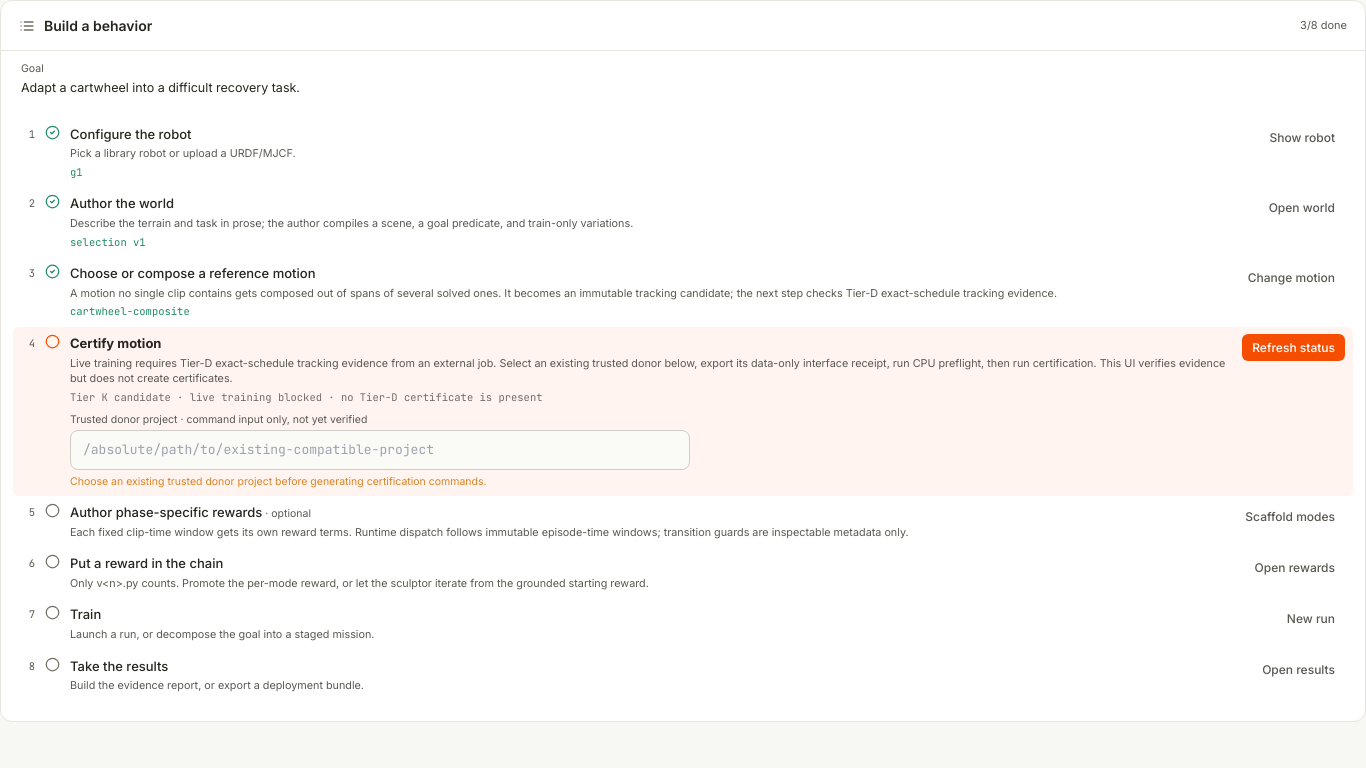
Scenario: BehaviorFlow reference-motion readiness › keeps a Tier-K draft visibly blocked behind external certification
Expected: the text "Certify motion" is shown, [70,335,162,351]
Expected: the text "Tier K candidate · live training blocked · no Tier-D certificate is present" is shown, [70,390,542,404]
Type "/research/projects/g1-trusted-locomotion" into the field named "Trusted Tier-D donor project" at x=380, y=450, box [70,430,690,470]
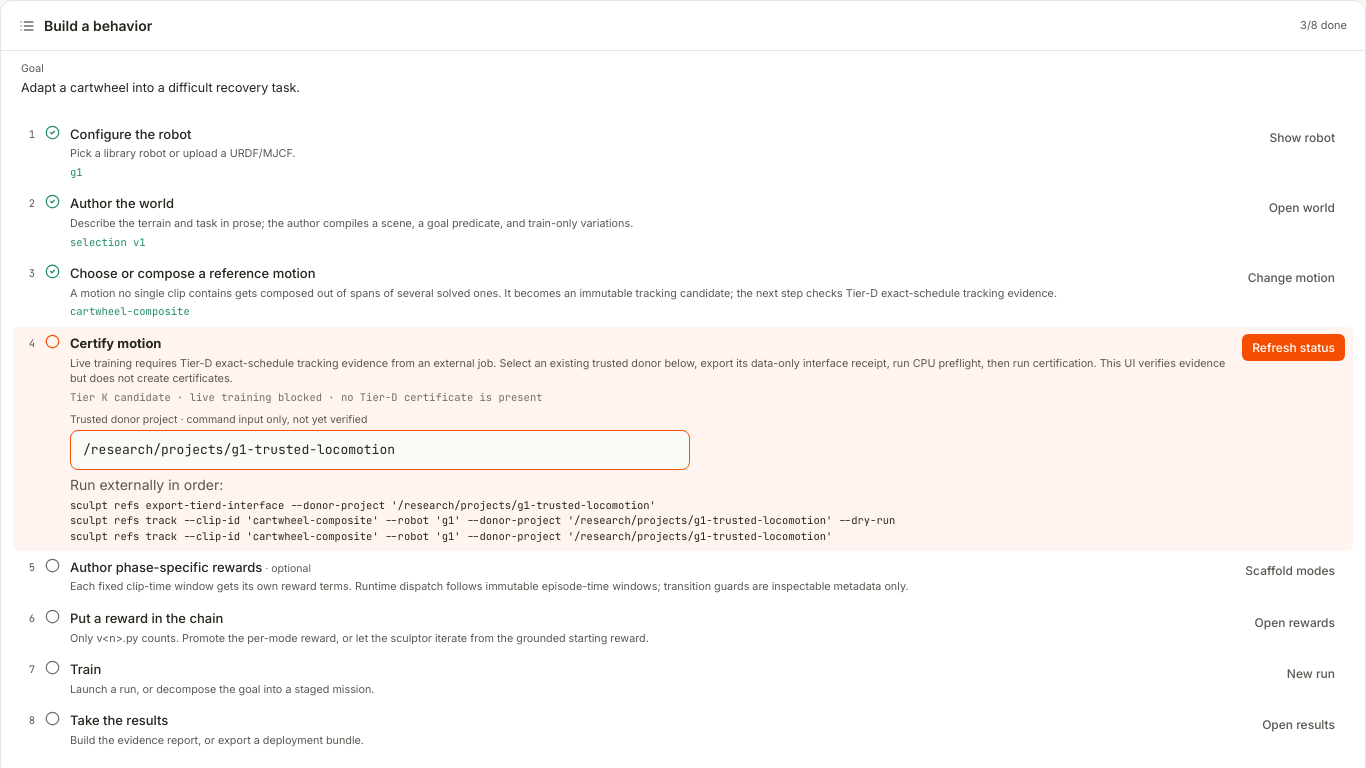
Expected: the button "Refresh status" is enabled, [1242,334,1345,361]
Now the element named "External certification command" shows "sculpt refs track --clip-id 'cartwheel-composite' --robot 'g1'", box [70,498,895,543]
Now the element named "External certification command" shows "--dry-run", box [70,498,895,543]
